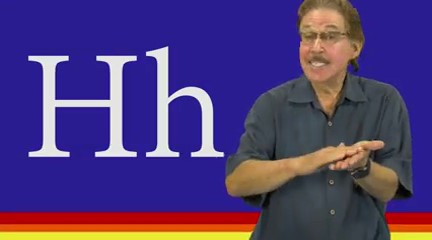H: (293, 138, 386, 179)
